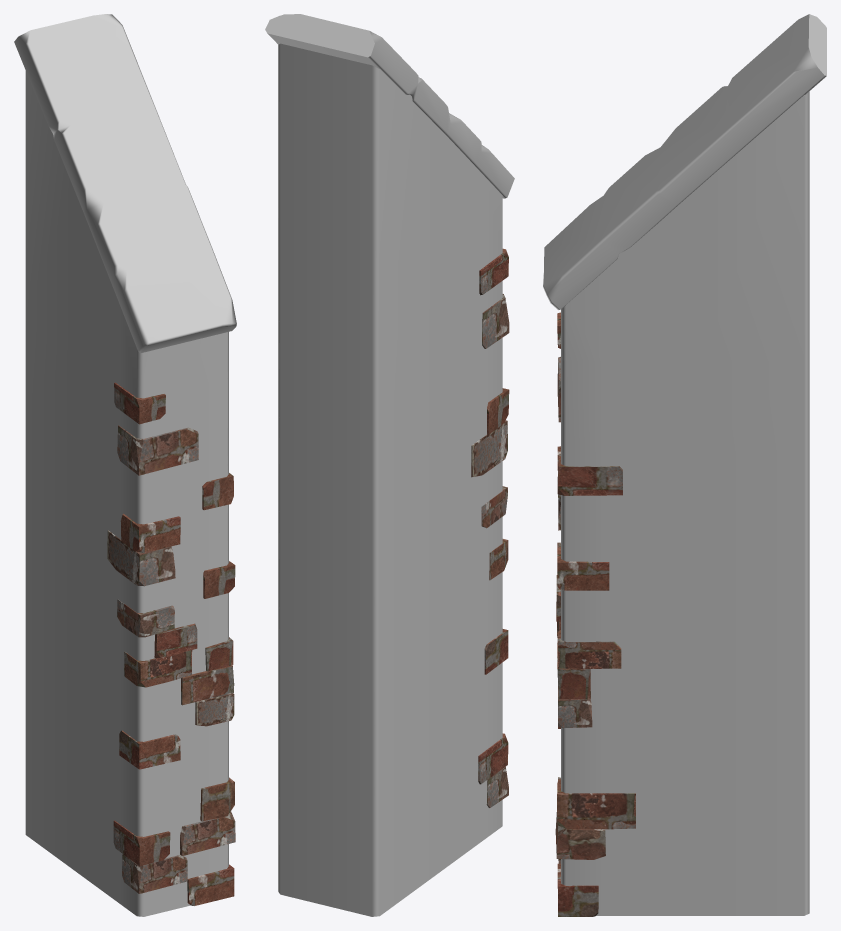
File: SM_Buttress_04.fbx
3 renders of one model, left to right at view 1: azimuth 30°, elevation 25°; view 2: azimuth 150°, elevation 25°; view 3: azimuth 270°, elevation 25°, orthographic. The views are drawn at different scales.
Parts seen in each view (by area): view 1: SM_Buttress_04_LOD0; view 2: SM_Buttress_04_LOD0; view 3: SM_Buttress_04_LOD0.
Part boxes in pixels (x1,y1,x2,y2): SM_Buttress_04_LOD0: (14,14,236,916); SM_Buttress_04_LOD0: (265,14,514,916); SM_Buttress_04_LOD0: (543,14,826,916).
Size of what is drawn, in the model's own units: 117 by 930 by 279.
